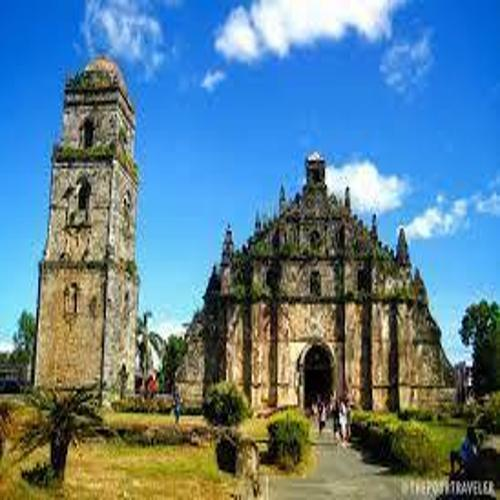Paoay Church: (27, 41, 479, 429)
